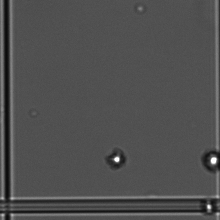Living Cell: (103, 145, 127, 172), (202, 146, 218, 172), (202, 197, 216, 214)
